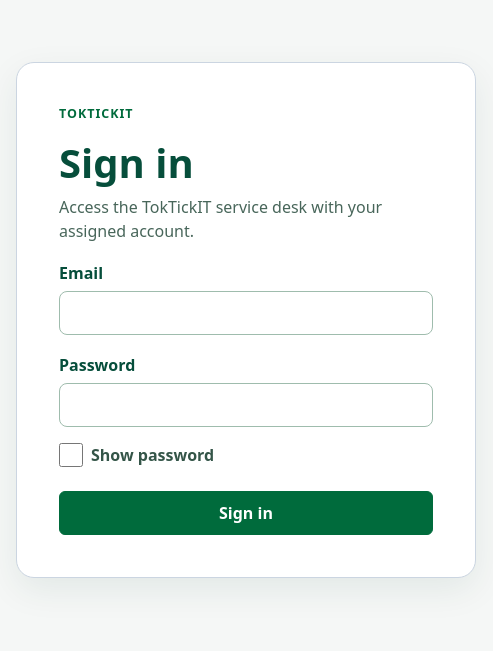
Test case: Login › uses one safe message for invalid credentials and clears the entered password
The image size is (493, 651).
Expected: the heading "Sign in" is shown, top-left (59, 135), bottom-right (194, 190)
Type "unknown@example.test" into the field labelled "Email" at (246, 313), box top-left (59, 291), bottom-right (433, 335)
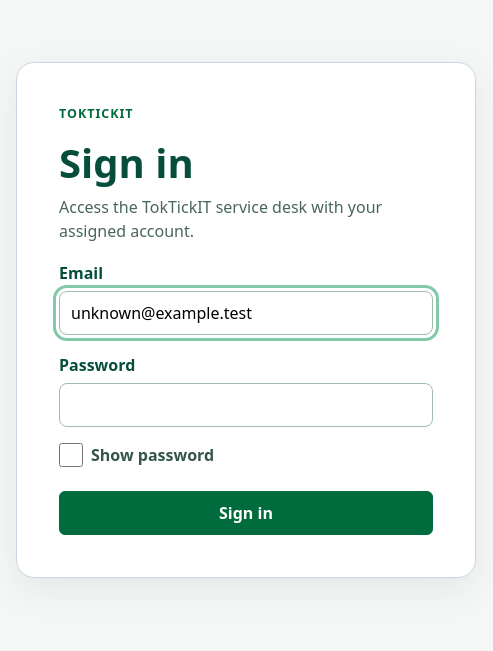
Type "not-the-right-password" into the password field labelled "Password" at (246, 405), box top-left (59, 383), bottom-right (433, 427)
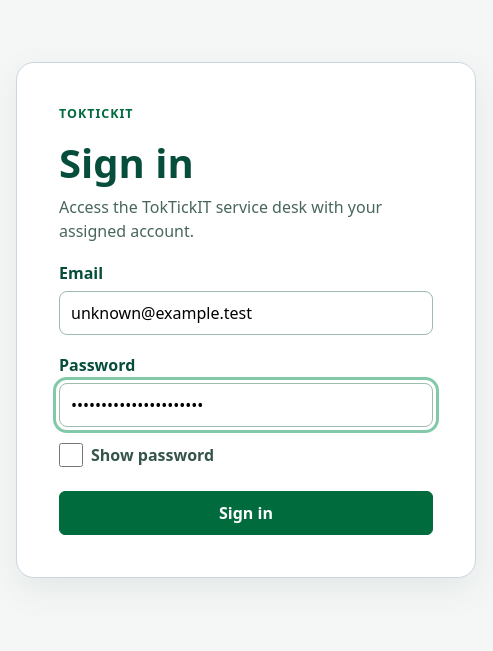
Click the button "Sign in" at (246, 513), box top-left (59, 491), bottom-right (433, 535)
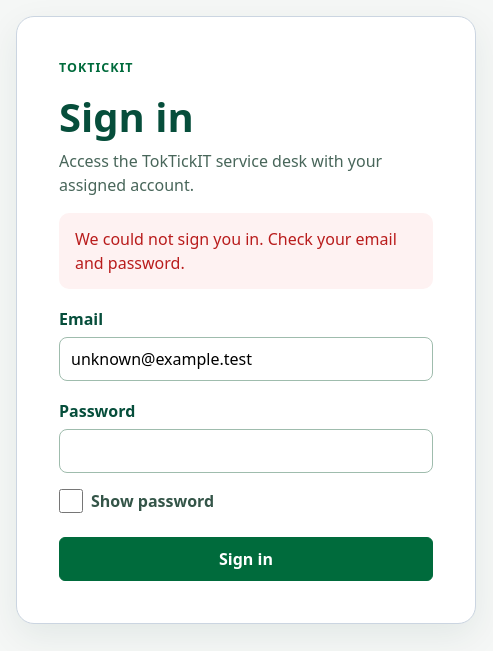
Now the text "We could not sign you in. Check your email and password." is shown, box top-left (59, 213), bottom-right (433, 289)
Now the password field labelled "Password" is empty, box top-left (59, 429), bottom-right (433, 473)
